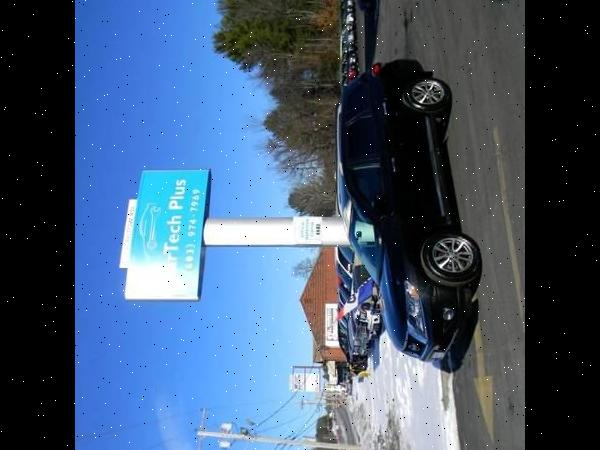Front_Bumper: (415, 281, 469, 364)
Front_Fender: (385, 225, 447, 293)
Front_Left_Door: (380, 162, 445, 227)
Front_Left_Window: (351, 167, 385, 224)
Front_Windshield: (348, 198, 384, 284)
Grille: (399, 323, 426, 360)
Hood: (376, 228, 406, 354)
Left_Headlight: (406, 280, 426, 338)
Left_Taillight: (369, 61, 379, 76)
Rear_Bumper: (394, 58, 431, 85)
Rear_Fender: (348, 60, 399, 120)
Rear_Left_Door: (373, 104, 432, 166)
Rear_Left_Window: (348, 111, 379, 168)
Roof: (337, 74, 386, 240)
Wheel: (420, 231, 480, 286), (403, 78, 450, 115)
